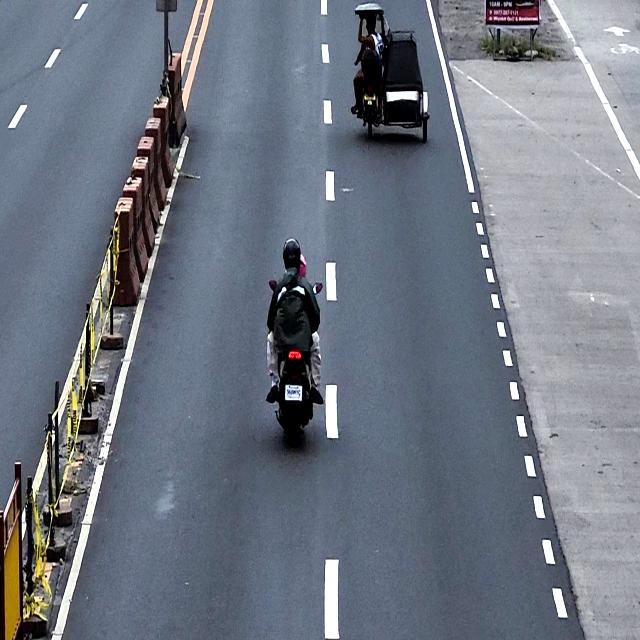License-Plate: (284, 384, 302, 403), (364, 91, 376, 101)
Motorcycle: (266, 275, 324, 435)
Tricycle: (352, 2, 431, 146)
